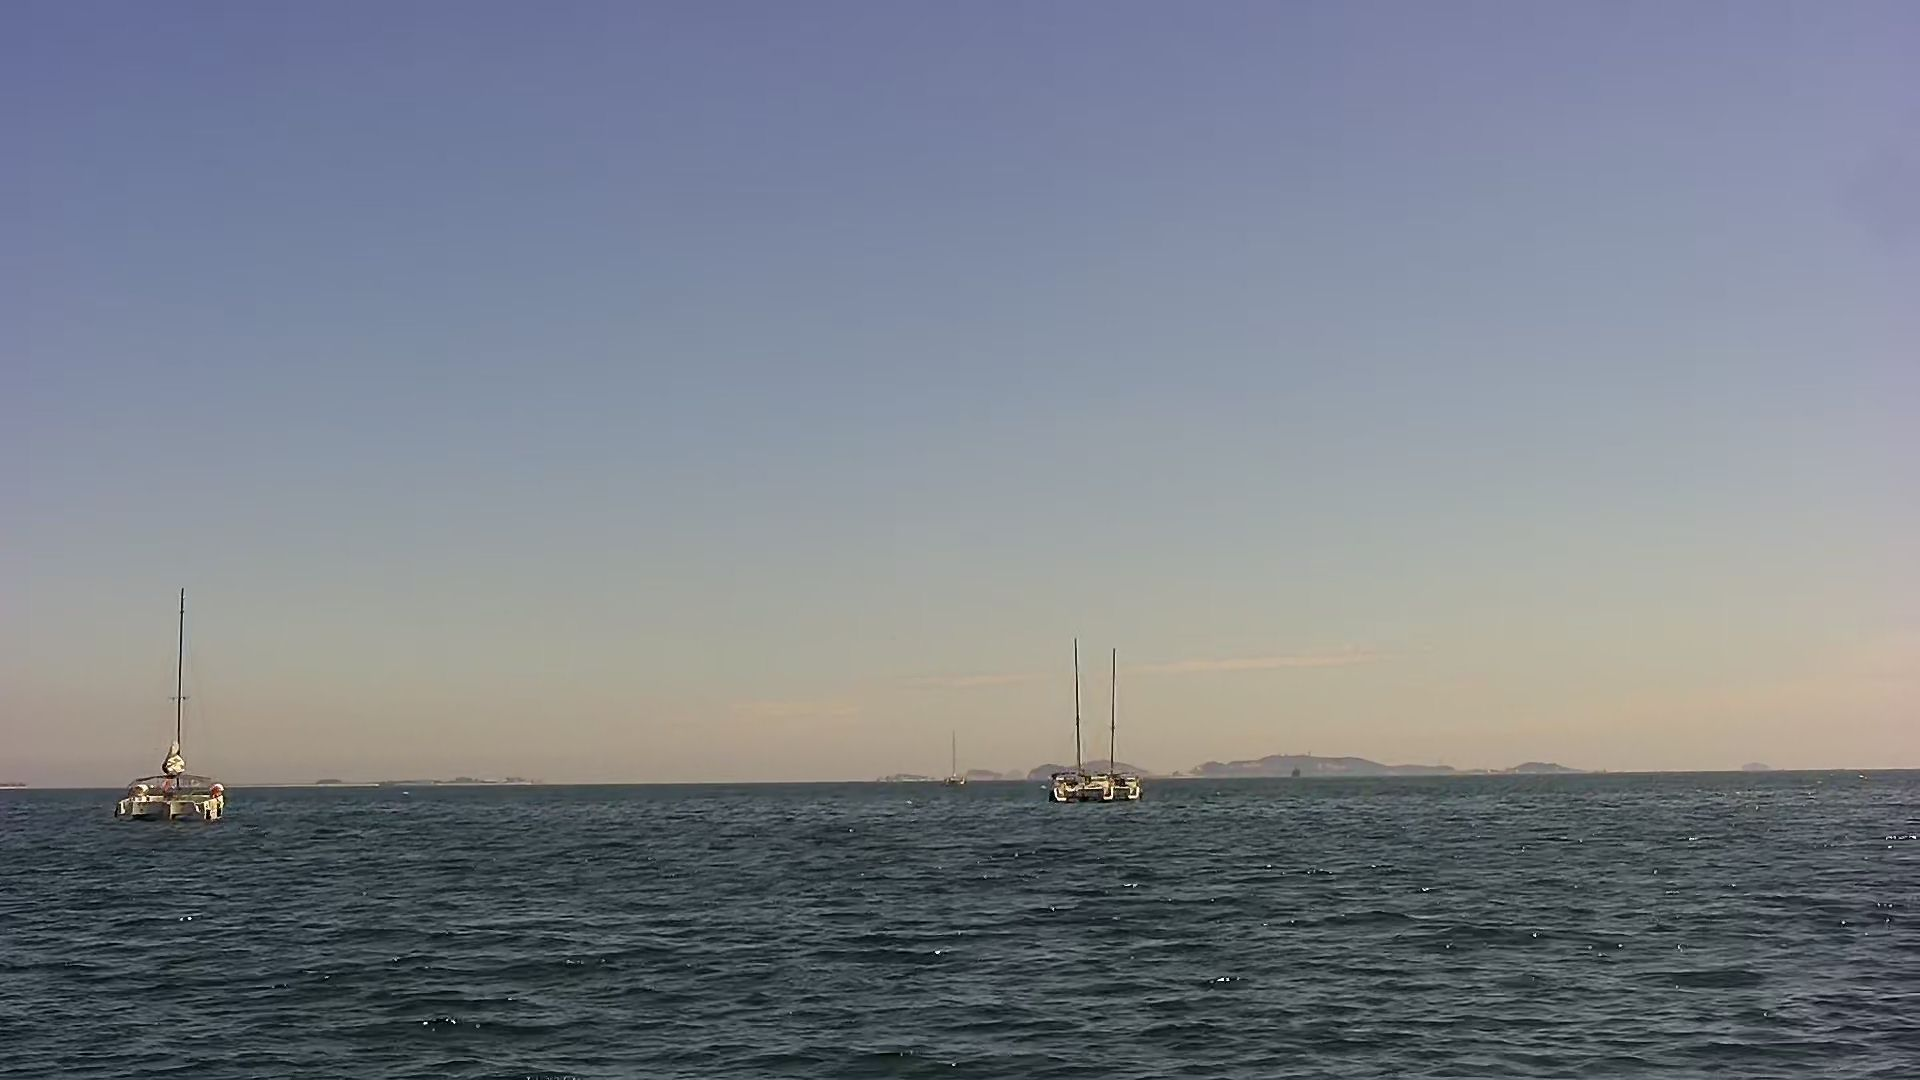boat: (120, 587, 225, 825), (1038, 632, 1124, 808), (942, 731, 971, 791)
rock: (1189, 746, 1451, 771), (1014, 750, 1171, 771), (396, 771, 549, 789), (1502, 758, 1577, 774), (872, 771, 936, 785), (1738, 760, 1785, 775), (314, 773, 349, 789)
